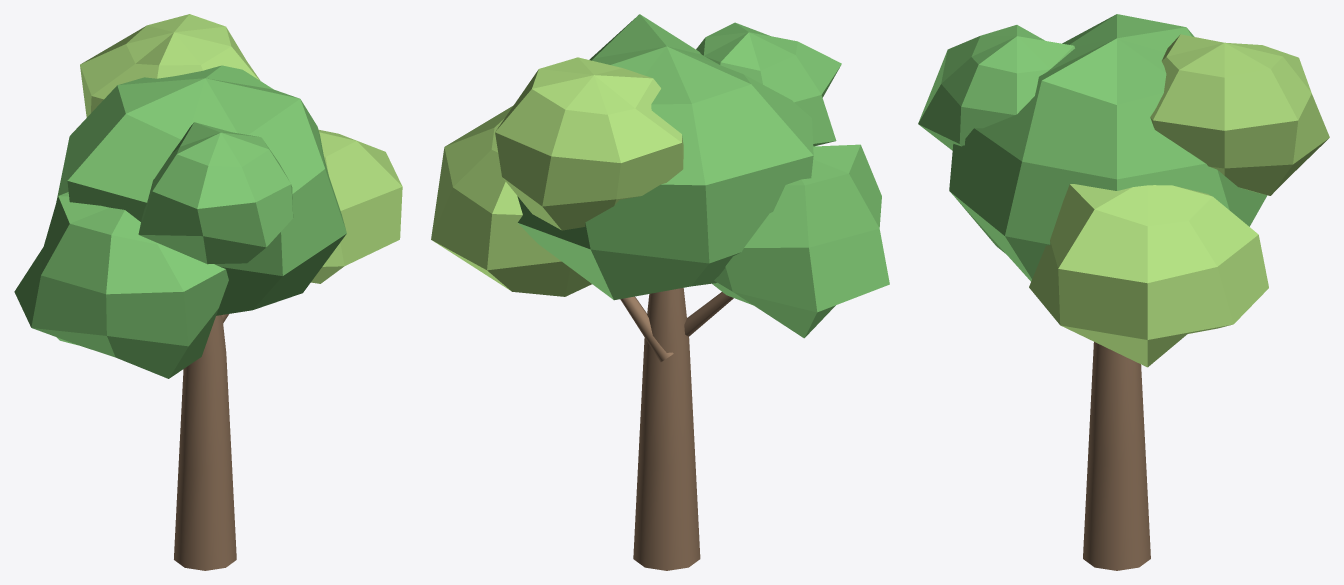
Rendered from tree_broad.glb.
3 renders of one model, left to right at view 1: azimuth 30°, elevation 25°; view 2: azimuth 150°, elevation 25°; view 3: azimuth 270°, elevation 25°, orthographic. The views are drawn at different scales.
Parts seen in each view (by area): view 1: tree_broad_m; view 2: tree_broad_m; view 3: tree_broad_m.
Boxes of the visible parts, box(x1,y1,x2,y2) form: tree_broad_m: box(14, 14, 402, 570); tree_broad_m: box(431, 14, 889, 570); tree_broad_m: box(918, 14, 1329, 570).
Size of the model in its own units: 6.31 by 7.51 by 5.36.
